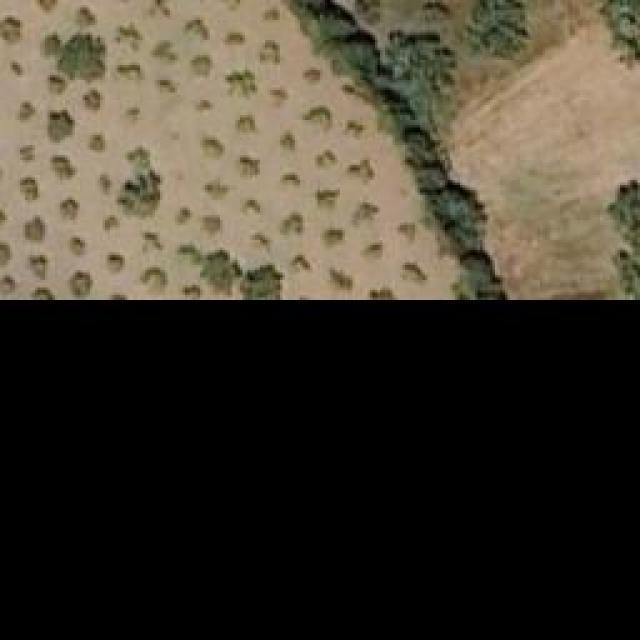Tree: (468, 0, 523, 68), (597, 0, 640, 72), (55, 30, 108, 83), (610, 175, 640, 240), (118, 173, 163, 216), (610, 248, 640, 298), (243, 263, 283, 298), (203, 247, 238, 285), (47, 107, 75, 145), (225, 68, 258, 98), (350, 198, 380, 231), (345, 158, 375, 188), (310, 187, 340, 215), (303, 102, 333, 130), (68, 270, 100, 296), (152, 40, 180, 68), (115, 22, 143, 50), (50, 155, 78, 180), (23, 215, 48, 243), (140, 268, 168, 293), (278, 210, 303, 238), (328, 270, 353, 298), (285, 248, 313, 273), (182, 18, 210, 41), (18, 178, 43, 203), (0, 15, 22, 42), (235, 158, 260, 181), (58, 198, 81, 223), (65, 235, 88, 260), (25, 255, 48, 280), (313, 145, 338, 168), (178, 245, 203, 268), (202, 180, 230, 200), (200, 215, 223, 238), (103, 253, 126, 276), (323, 225, 346, 248), (45, 73, 68, 96), (268, 88, 291, 111), (403, 263, 428, 283), (40, 33, 60, 58), (120, 60, 145, 80), (190, 55, 213, 75), (203, 138, 226, 158), (363, 243, 383, 266), (75, 8, 98, 28), (260, 38, 280, 61), (248, 232, 273, 250), (150, 0, 173, 18), (85, 88, 103, 111), (195, 97, 218, 115), (88, 135, 108, 155), (18, 145, 38, 163), (235, 115, 255, 133), (17, 103, 35, 123), (277, 130, 295, 150), (280, 170, 300, 188), (302, 65, 320, 85), (225, 27, 245, 45), (97, 173, 115, 193), (102, 215, 120, 235), (183, 282, 203, 300), (175, 207, 193, 225), (265, 7, 283, 25), (122, 102, 140, 120), (38, 0, 58, 15), (0, 275, 15, 295), (155, 78, 175, 93)
